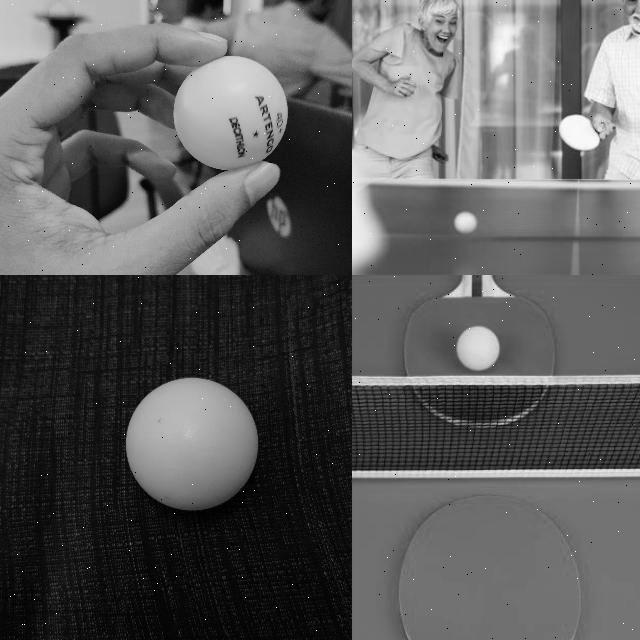ping-pong-ball: (125, 378, 258, 508), (172, 56, 284, 168), (458, 327, 498, 368), (455, 212, 475, 232)
